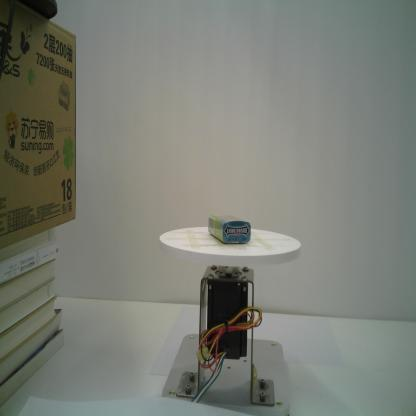Gum: (207, 212, 252, 244)
